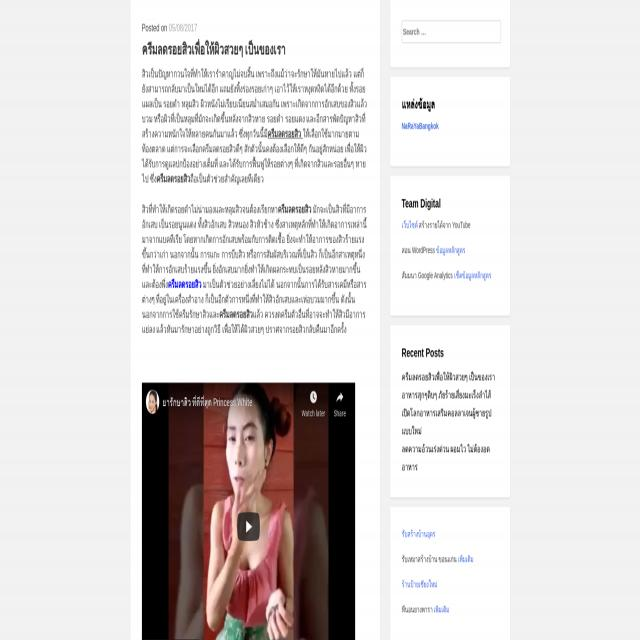button: (142, 382, 355, 640), (299, 387, 325, 422), (332, 386, 349, 423), (237, 513, 260, 540)
field: (401, 21, 501, 43)
